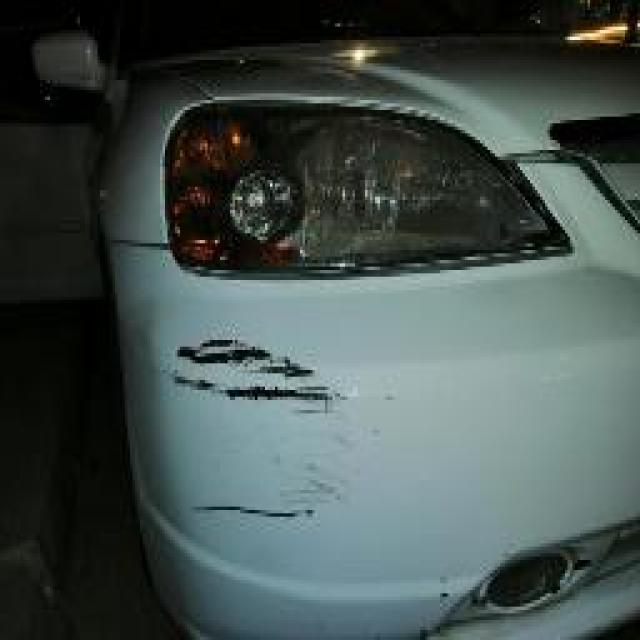Bumper: (170, 320, 400, 563)
